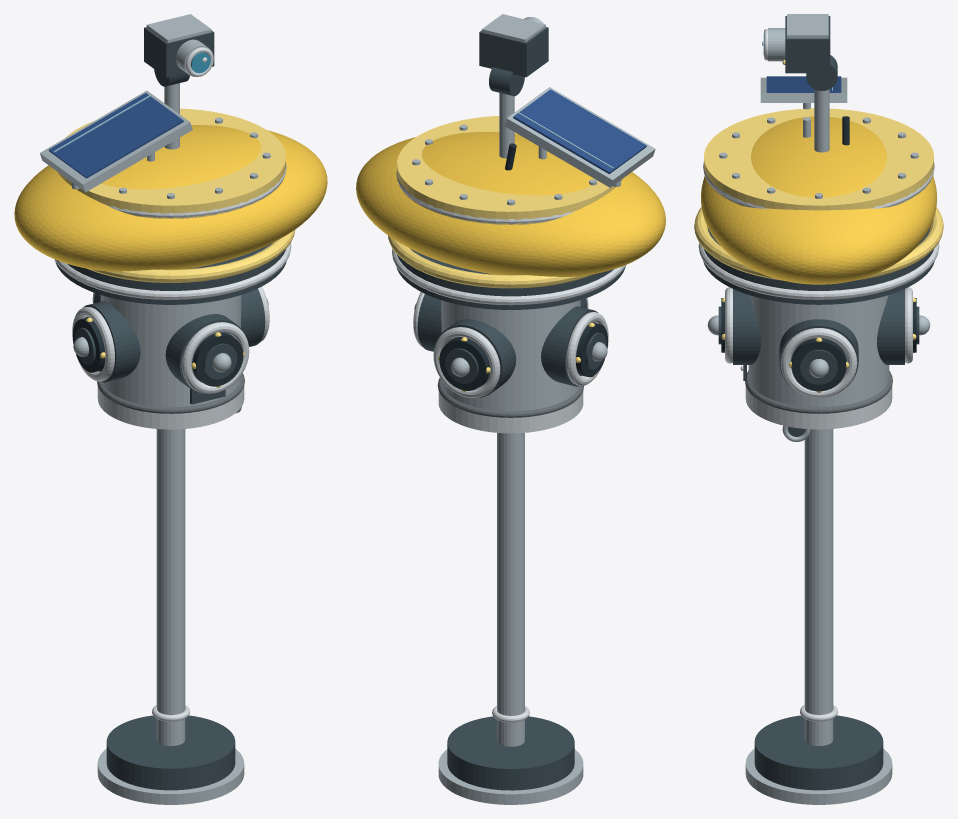
Rendered from Aqua_Sonic_Device_Babylon_Correct_Views.glb.
3 views of the same model, side by side, from view 1: azimuth 30°, elevation 25°; view 2: azimuth 150°, elevation 25°; view 3: azimuth 270°, elevation 25° (orthographic).
Visible parts, largest first — view 1: world; view 2: world; view 3: world.
Boxes of the visible parts, <box> form: world: <box>14,14,327,804</box>; world: <box>356,14,665,804</box>; world: <box>694,14,943,804</box>.
Size of the model in its own units: 2.24 by 5.54 by 1.67.
Materials: 1 (1 with a texture image).
